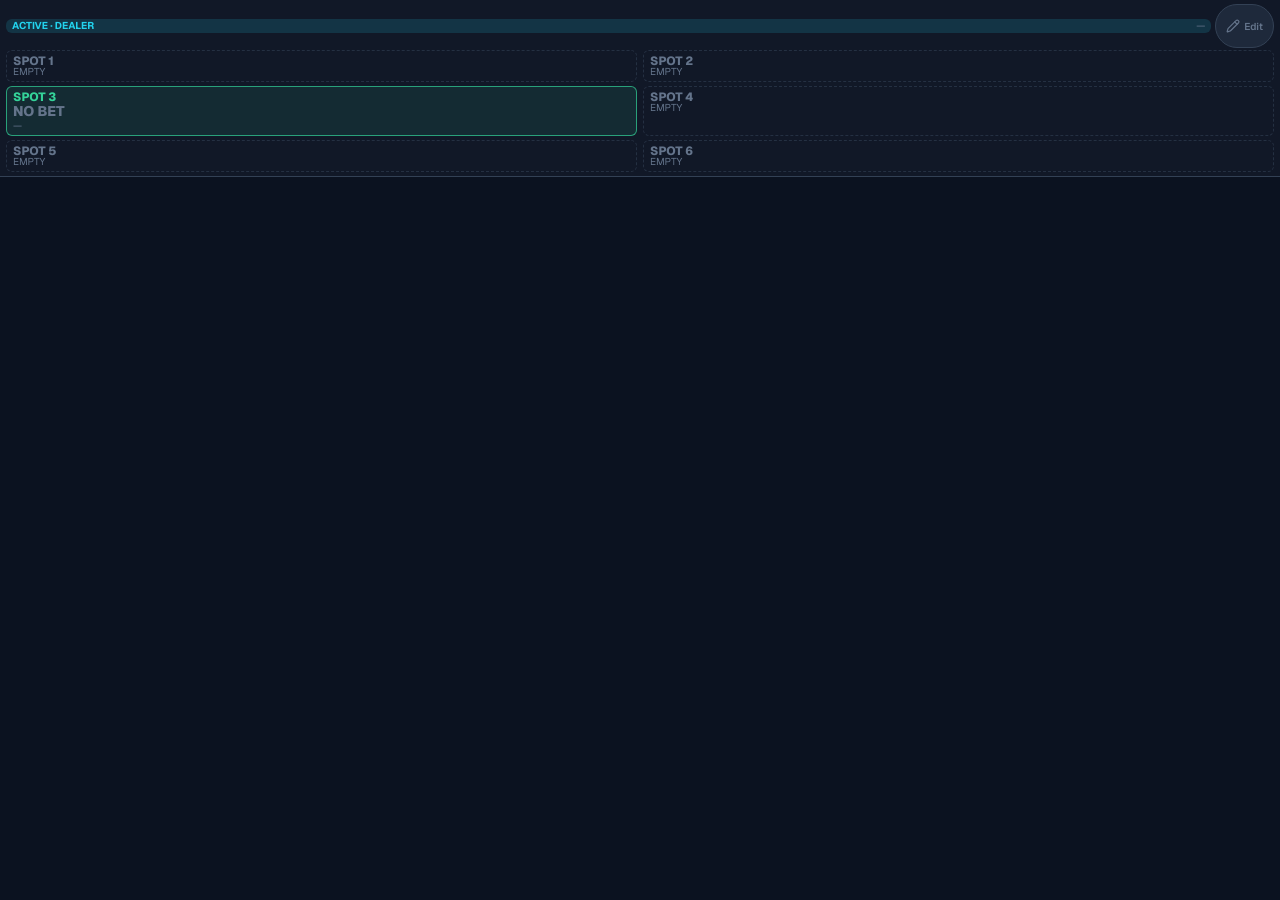
Test: FloorPlayField — Edit Mode (AGENTS.md 1.14b §3/§5) › toggling Edit Mode then tapping an occupied spot opens SeatOptionsSheet with Mark Empty reachable
Click the button with test id "floor-edit-mode-toggle": (1245, 26) [1215,4,1274,48]
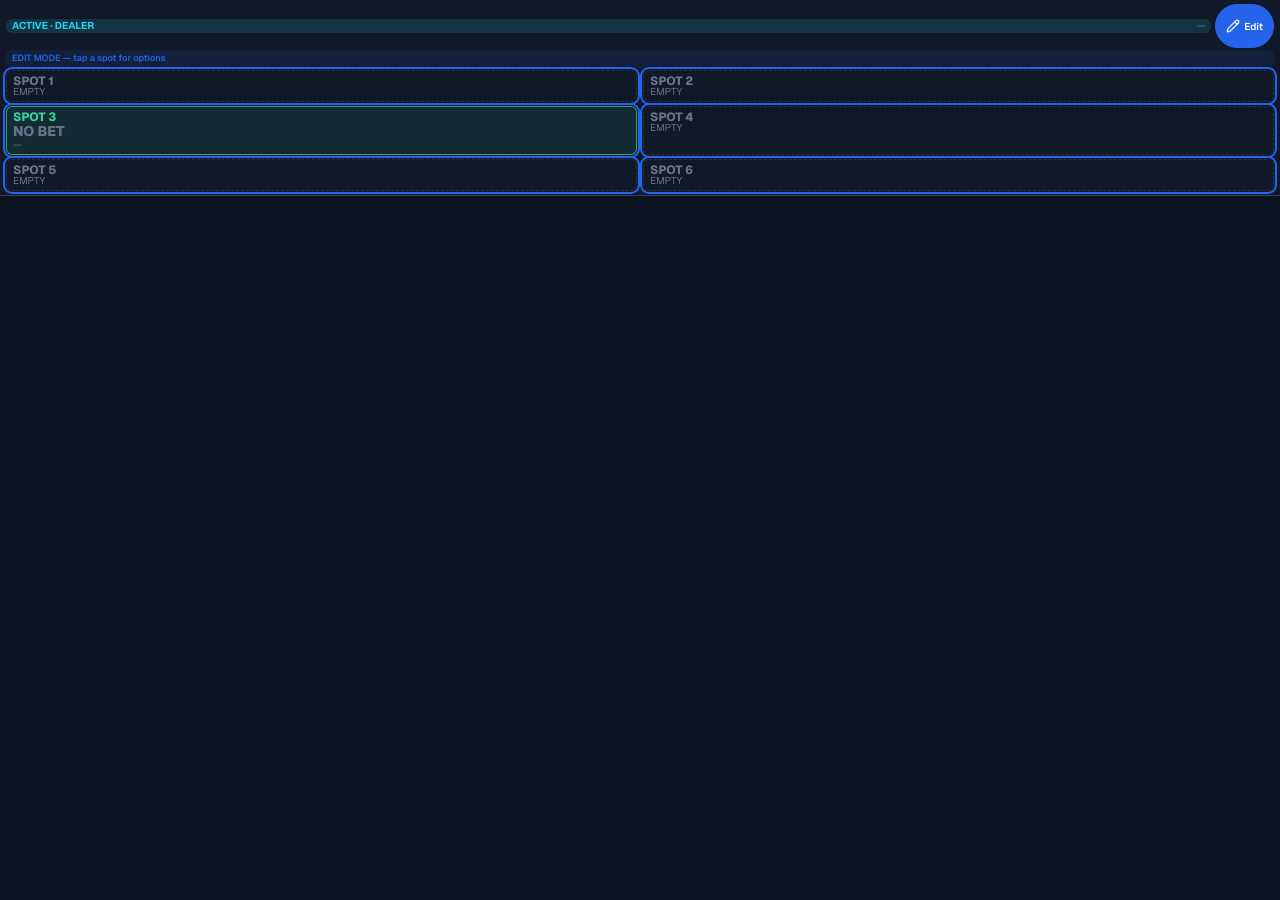
Now the text "EDIT MODE — tap a spot for options" is shown, box [6,50,1274,68]
Click the button with test id "floor-seat-3": (35, 116) [6,106,637,155]
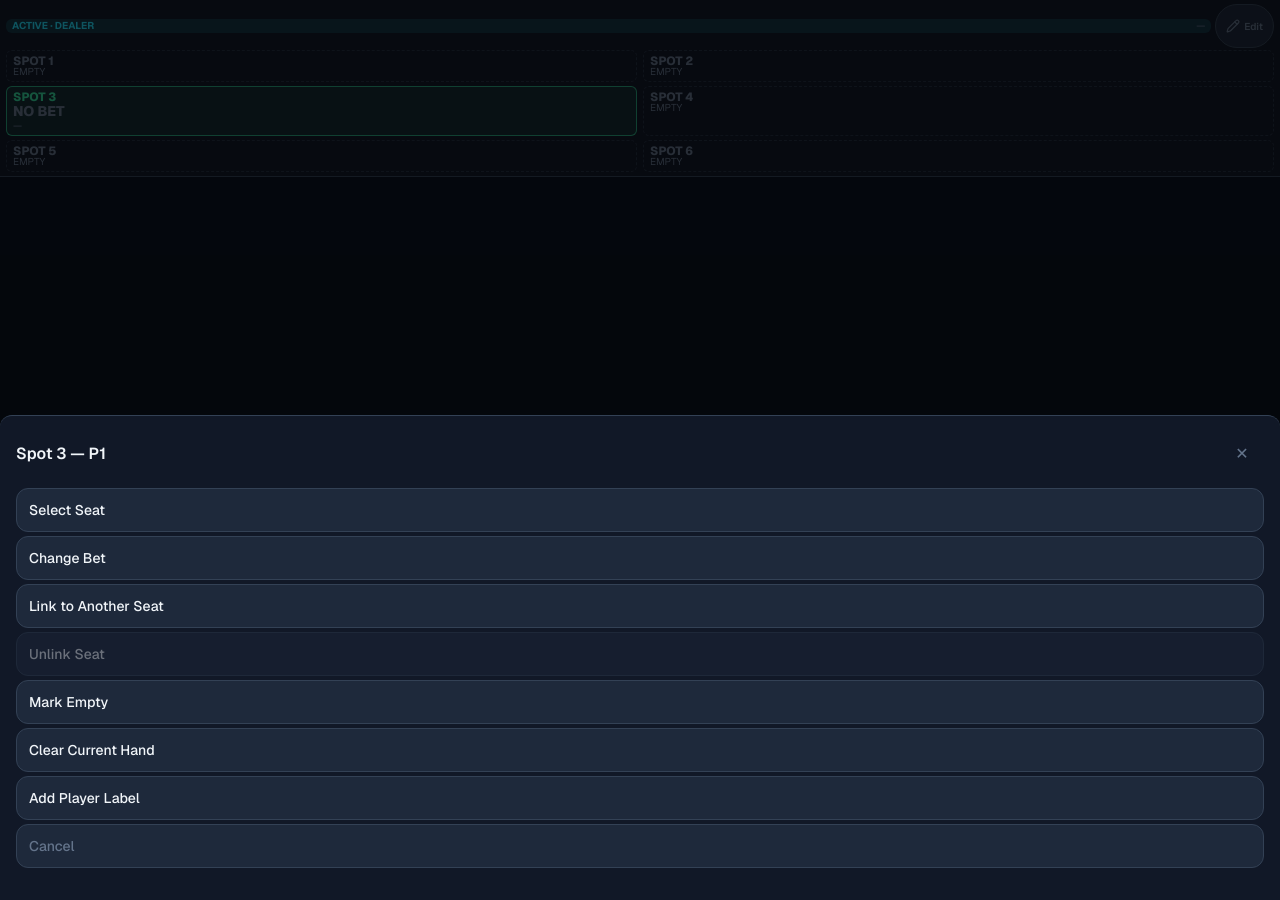
Now the button "Mark Empty" is shown, box [16,680,1264,724]
